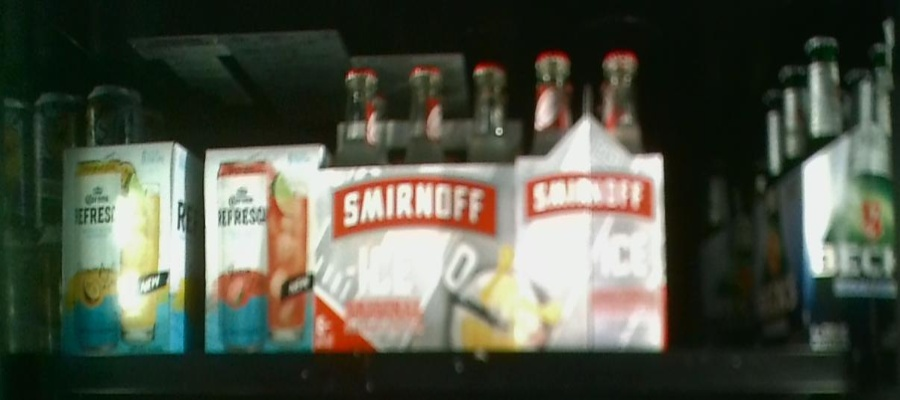bottle: (328, 66, 515, 352), (519, 48, 668, 346), (60, 145, 206, 357), (202, 147, 319, 354)
